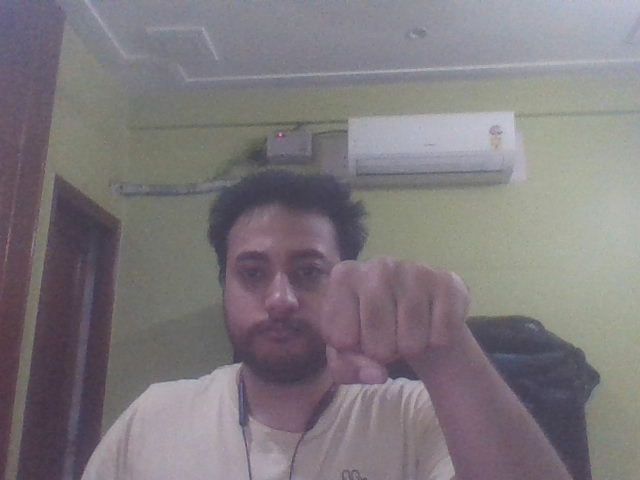Yes: (314, 254, 503, 395)
